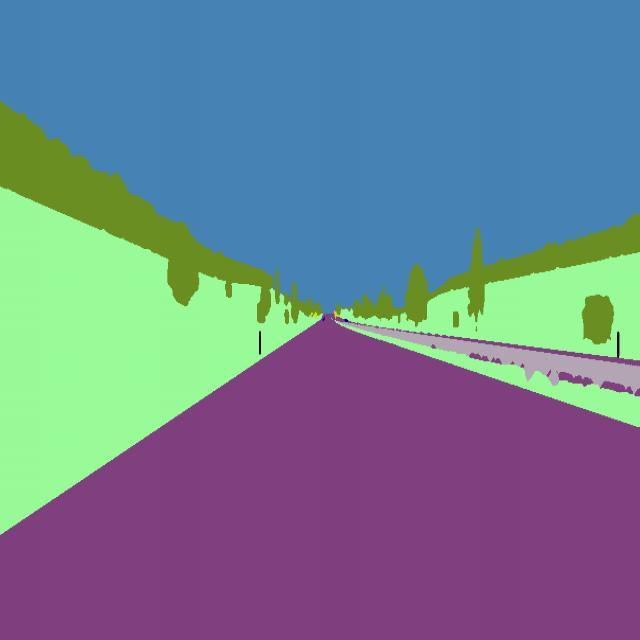safe: (321, 317, 326, 324)
